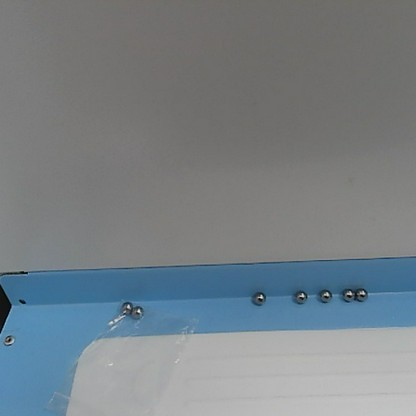ironball: (251, 290, 268, 306), (352, 286, 368, 303), (339, 284, 354, 302), (293, 289, 308, 306), (317, 287, 332, 304), (118, 299, 134, 314), (129, 303, 142, 319)
